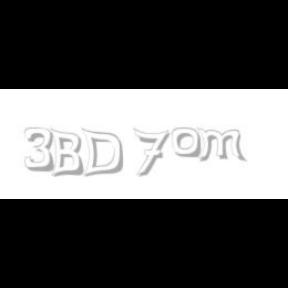3: (24, 128, 56, 172)
7: (134, 128, 170, 178)
B: (49, 128, 83, 178)
D: (80, 128, 124, 178)
m: (196, 128, 248, 162)
o: (172, 128, 200, 158)
